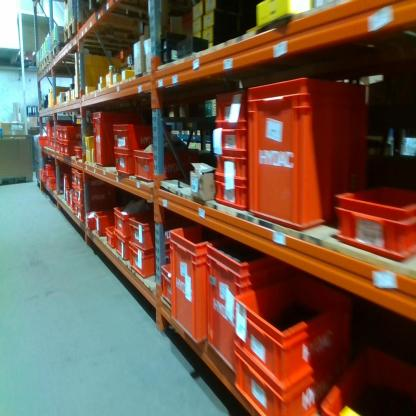pallet: (64, 17, 83, 45), (51, 45, 63, 62), (44, 51, 51, 72), (34, 64, 40, 81), (40, 61, 45, 76)
small_load_carrier: (246, 76, 369, 235), (232, 266, 353, 397), (208, 240, 286, 376), (233, 337, 349, 415), (324, 336, 416, 414), (169, 226, 227, 346), (332, 182, 416, 262), (93, 110, 143, 171), (134, 149, 193, 186), (111, 121, 172, 152), (130, 204, 170, 249), (130, 238, 169, 275), (213, 178, 250, 211), (213, 88, 248, 122), (213, 151, 250, 183), (213, 123, 248, 153), (158, 256, 173, 313), (74, 170, 113, 189), (76, 185, 114, 204), (111, 203, 131, 237), (114, 149, 135, 179), (115, 227, 131, 264), (61, 122, 88, 140), (95, 214, 115, 238), (79, 204, 99, 223), (45, 119, 57, 149), (105, 224, 118, 247), (63, 140, 76, 161), (85, 214, 96, 233), (73, 145, 89, 157), (45, 164, 60, 176), (36, 132, 48, 146), (48, 176, 60, 190), (71, 197, 79, 212), (66, 190, 73, 205), (39, 168, 46, 182), (53, 142, 60, 155), (56, 126, 62, 141), (59, 142, 64, 158), (71, 167, 76, 182), (72, 183, 78, 195), (52, 127, 56, 137)
stillage: (0, 131, 36, 185), (33, 134, 41, 187)
